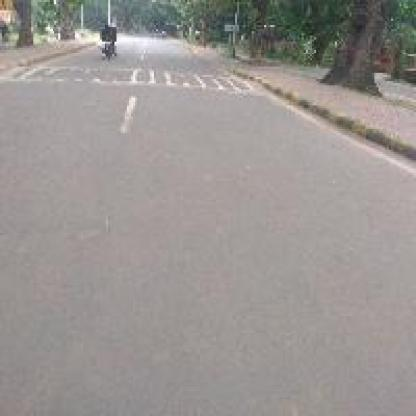Speed Bump: (0, 60, 256, 94)
